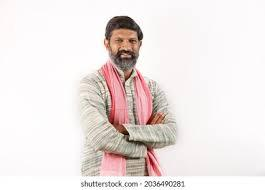Human: (74, 9, 183, 180)
